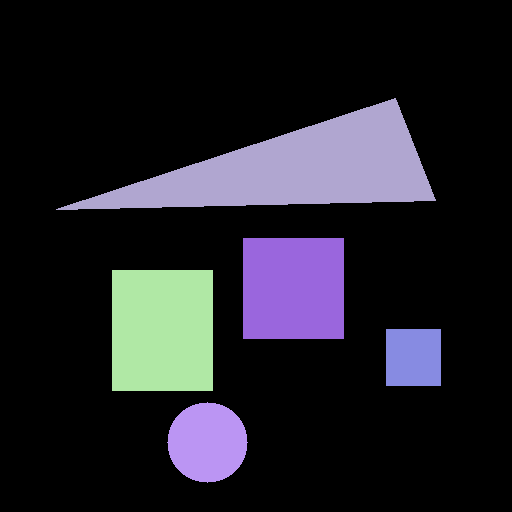circle: (167, 402, 247, 482)
rectangle: (112, 270, 212, 390)
square: (243, 238, 343, 338), (386, 329, 440, 385)
triangle: (56, 98, 435, 209)
